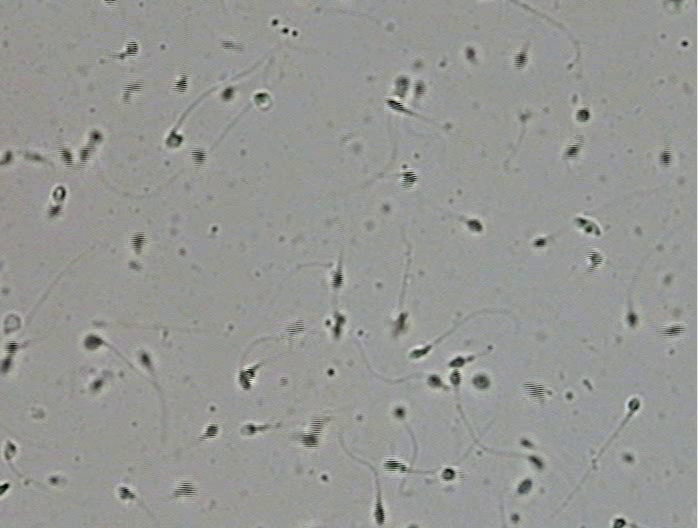S: (574, 217, 601, 236), (331, 310, 346, 339), (122, 81, 143, 100), (524, 381, 545, 400), (58, 146, 75, 168), (238, 368, 255, 390), (130, 232, 146, 254), (662, 324, 685, 338), (394, 76, 409, 97), (588, 250, 603, 271), (400, 171, 418, 188), (175, 482, 195, 497), (190, 148, 207, 165), (165, 132, 184, 147), (286, 321, 305, 336), (393, 313, 407, 333), (374, 502, 386, 525), (308, 418, 323, 436), (300, 434, 318, 449), (513, 51, 528, 69), (330, 270, 344, 289), (472, 374, 490, 388), (79, 144, 92, 163), (386, 99, 405, 112), (413, 80, 426, 99), (517, 479, 533, 494), (52, 186, 67, 202), (84, 335, 101, 349), (118, 486, 135, 500), (658, 150, 672, 167), (4, 441, 16, 460), (575, 108, 590, 123), (564, 143, 579, 158), (125, 41, 139, 57), (174, 77, 188, 93), (467, 219, 483, 233), (449, 369, 462, 386), (88, 130, 103, 144), (529, 455, 543, 470), (427, 374, 442, 388), (253, 92, 269, 105), (138, 351, 151, 367), (47, 205, 62, 218), (4, 341, 19, 354), (205, 424, 218, 439), (383, 459, 399, 471), (449, 356, 465, 368), (626, 312, 638, 328), (221, 87, 234, 101), (1, 150, 13, 165), (241, 424, 257, 435), (442, 468, 456, 480), (90, 379, 103, 391), (393, 407, 406, 419), (628, 398, 640, 411), (1, 358, 11, 373), (612, 518, 627, 528), (412, 348, 426, 358), (465, 47, 476, 59), (520, 438, 533, 448), (533, 238, 547, 247), (1, 483, 9, 493)
